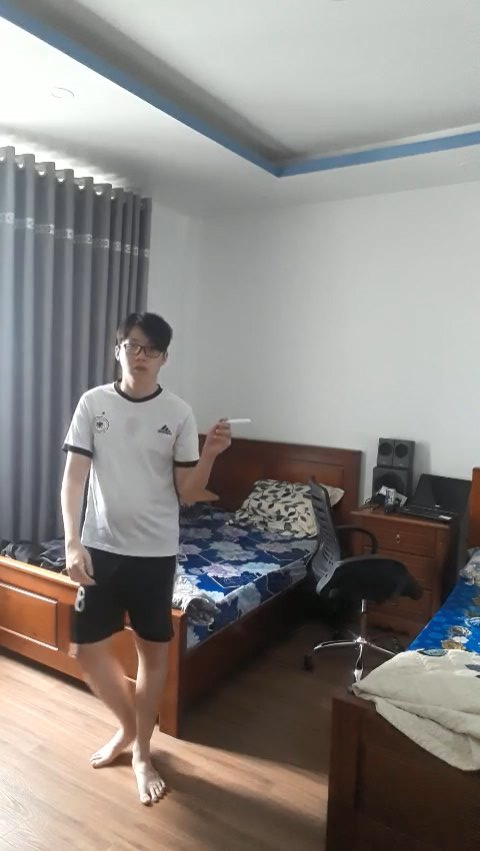cigarette: (227, 414, 253, 426)
person: (35, 292, 245, 812)
